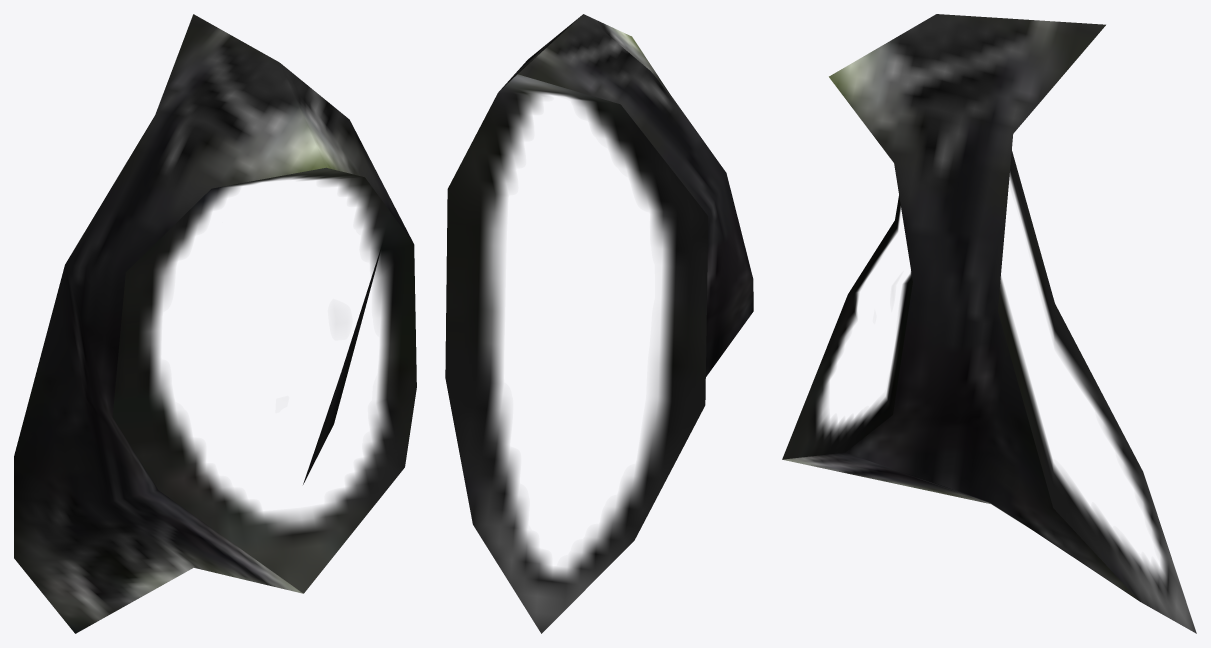
Rendered from shadow_knight_7_ankle_right.glb.
3 renders of one model, left to right at view 1: azimuth 30°, elevation 25°; view 2: azimuth 150°, elevation 25°; view 3: azimuth 270°, elevation 25°, orthographic. The views are drawn at different scales.
Parts seen in each view (by area): view 1: model_shadow_knight_7_ankle_right; view 2: model_shadow_knight_7_ankle_right; view 3: model_shadow_knight_7_ankle_right.
Part boxes in pixels (x1,y1,x2,y2): model_shadow_knight_7_ankle_right: [14, 14, 416, 633]; model_shadow_knight_7_ankle_right: [445, 14, 753, 633]; model_shadow_knight_7_ankle_right: [782, 14, 1196, 633].
Bounding box in the file's own units: 0.1743 × 0.3134 × 0.1791.
1 material, 1 textured.
